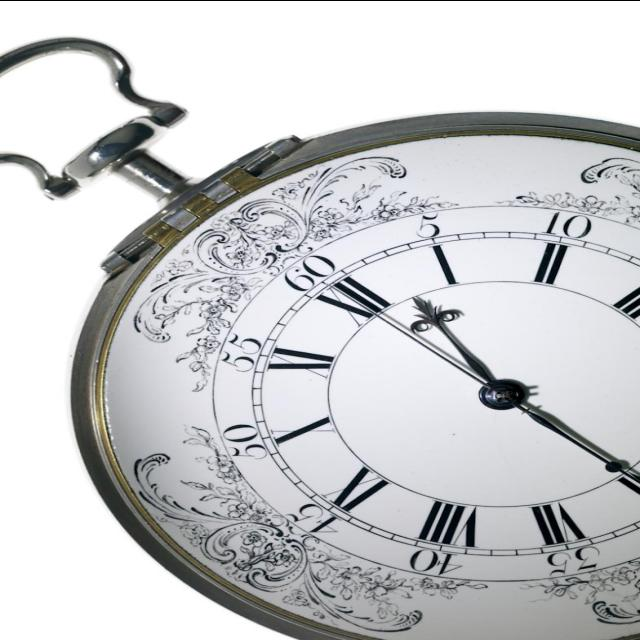clock: (155, 179, 640, 640)
